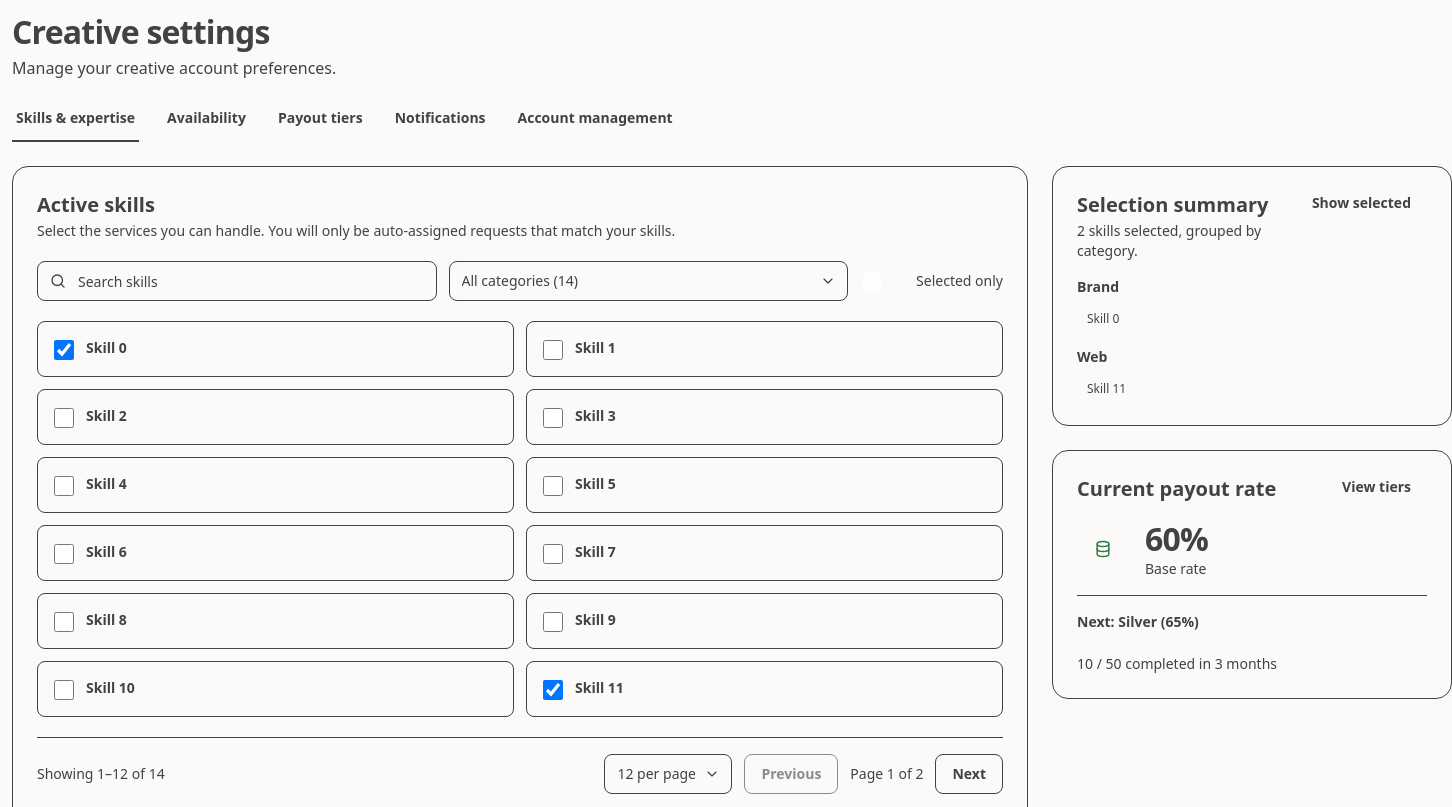
Test: Creative settings: availability › claims nothing about availability when it can't load
Expected: the checkbox labelled "Skill 0" is shown, 54,340 -> 74,360
Click the tab "Availability": (206, 123) 163,104 -> 250,142
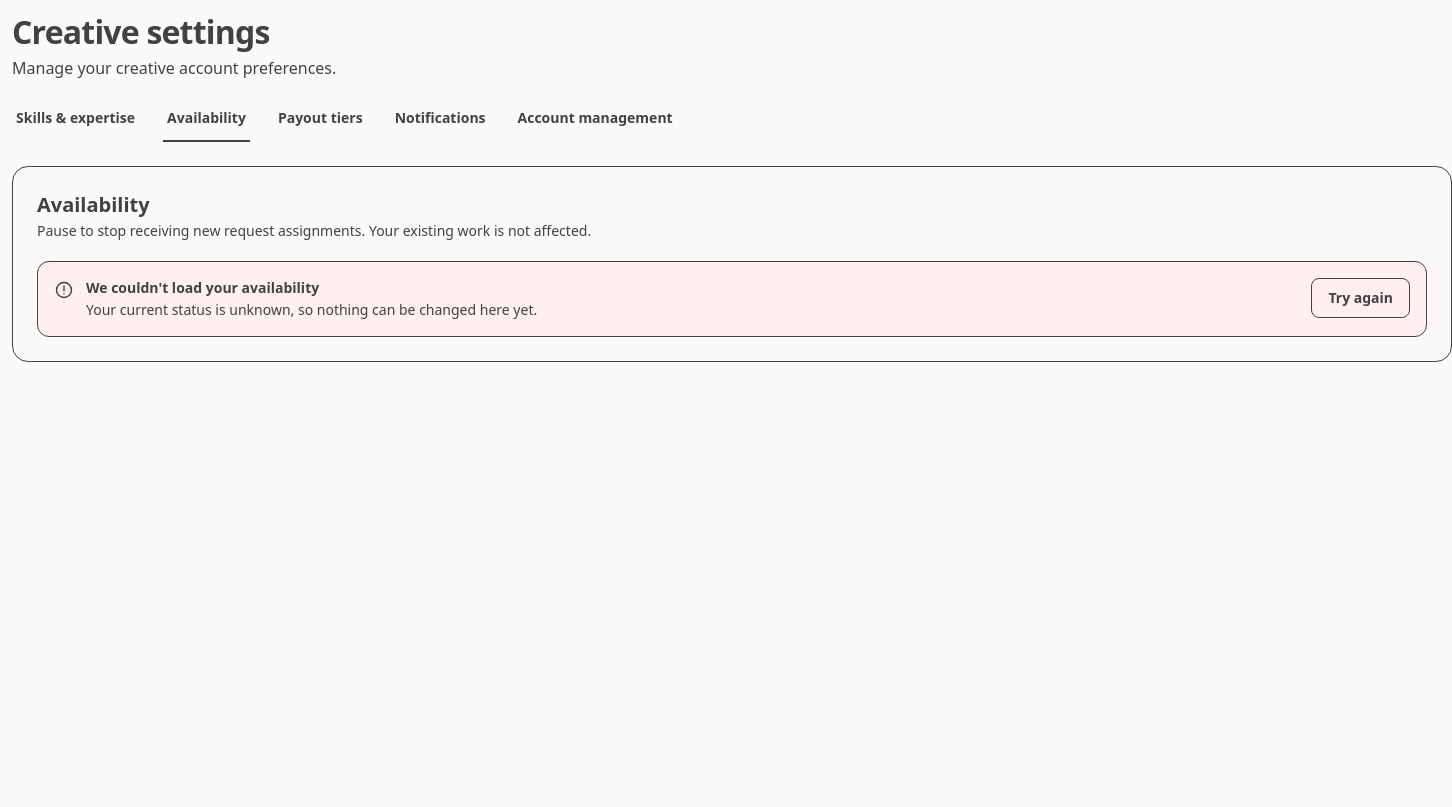
Now the text "We couldn't load your availability" is shown, box 86,278 -> 319,297
